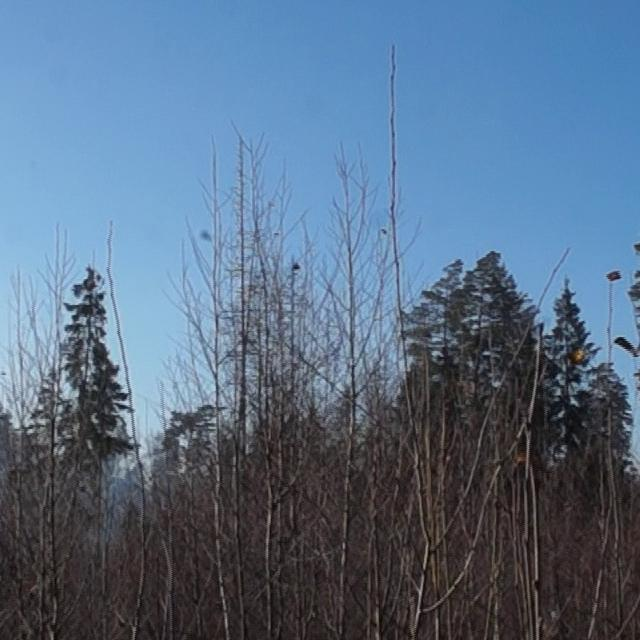Smoke: (88, 462, 151, 556), (1, 408, 27, 514)
